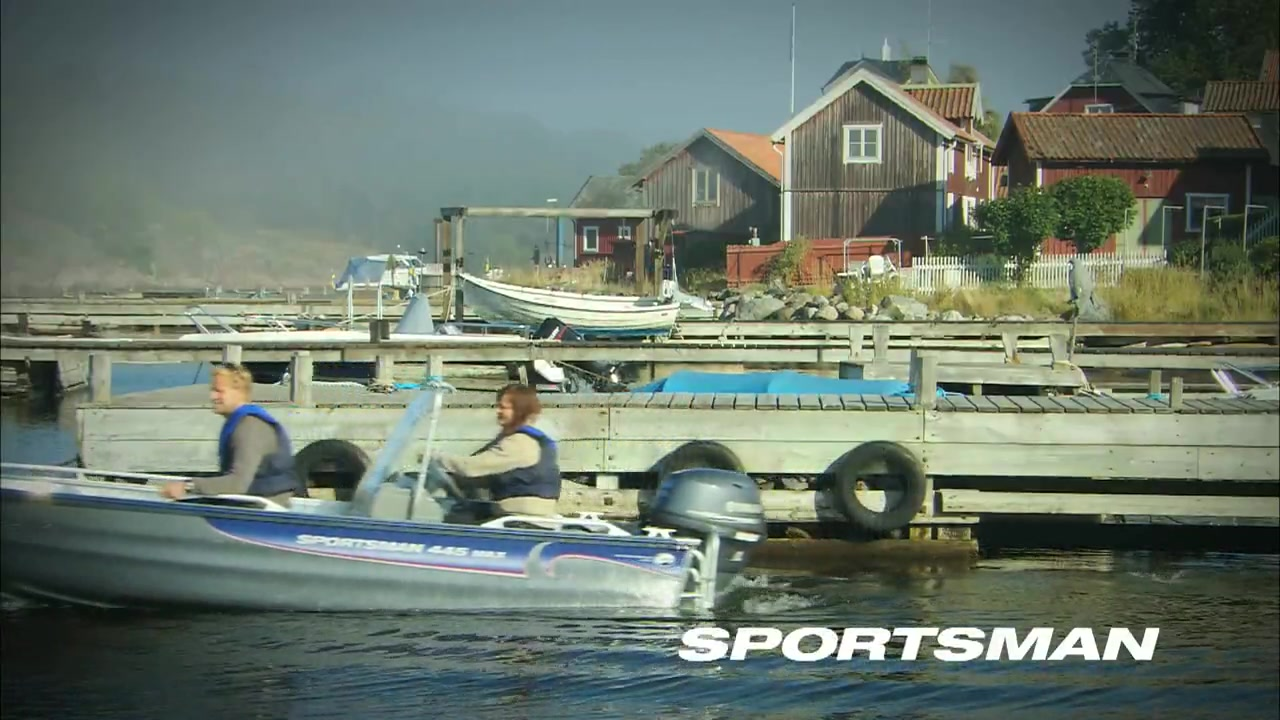boat: (2, 384, 769, 634)
